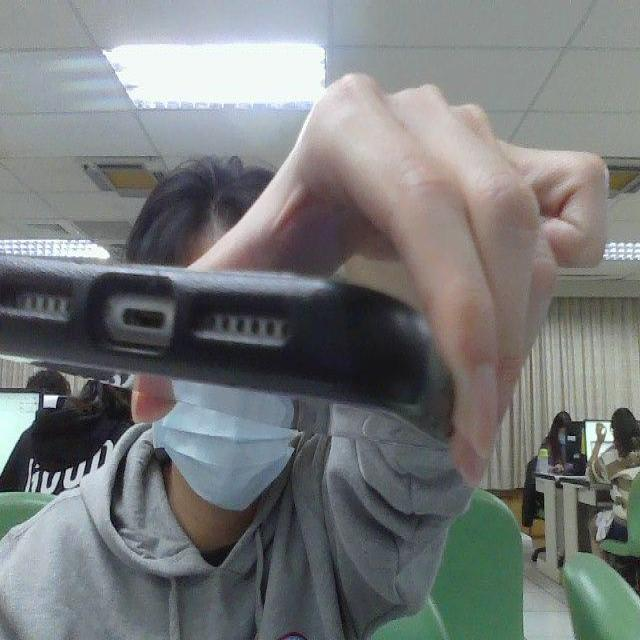ph: (0, 223, 474, 484)
